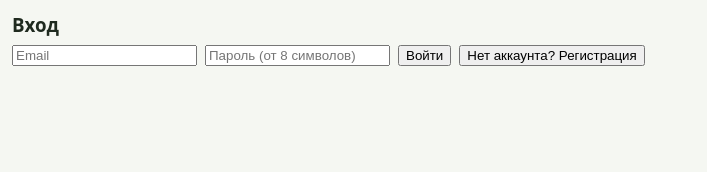
Test: LoginForm › пока идёт запрос, кнопка заблокирована и написано «Подождите…»
In the field labelled "Email": coordinates (104, 56) [12,45,197,66], type "a@test.kz"
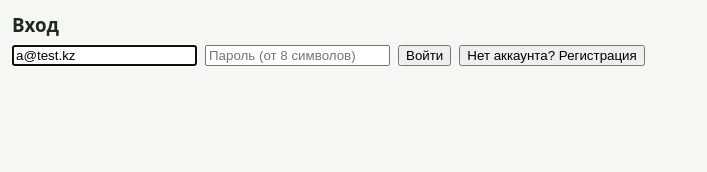
In the password field labelled "Пароль": coordinates (298, 56) [205,45,390,66], type "secret123"
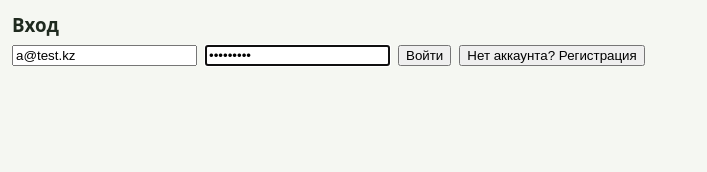
Click the button "Войти": coordinates (425, 56) [398,45,451,66]
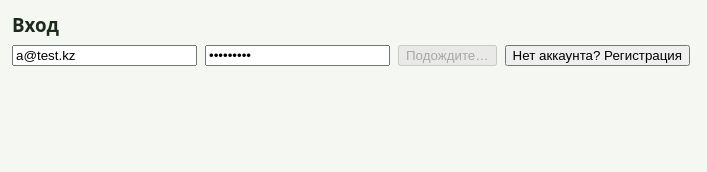
expect the button "Подождите…" is disabled: met, box [398,45,497,66]
